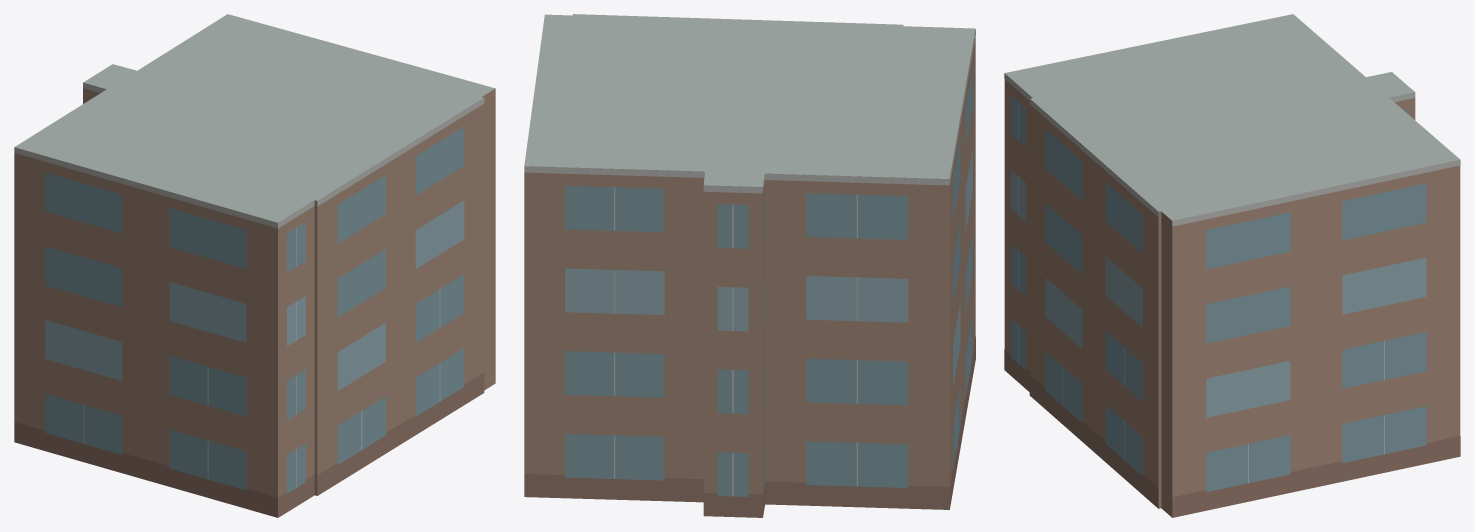
The model's file is survey-upis-32670526.glb.
The picture shows the model from 3 angles, left to right: view 1: azimuth 30°, elevation 25°; view 2: azimuth 150°, elevation 25°; view 3: azimuth 270°, elevation 25°; orthographic projection. The views are drawn at different scales.
Visible parts, largest first — view 1: survey-upis-32670526.tmp; view 2: survey-upis-32670526.tmp; view 3: survey-upis-32670526.tmp.
Part boxes in pixels (left/top/right/bottom): survey-upis-32670526.tmp: left=14, top=14, right=495, bottom=517; survey-upis-32670526.tmp: left=524, top=14, right=975, bottom=517; survey-upis-32670526.tmp: left=1004, top=14, right=1460, bottom=517.
Bounding box in the file's own units: 18.83 × 12.6 × 17.54.
